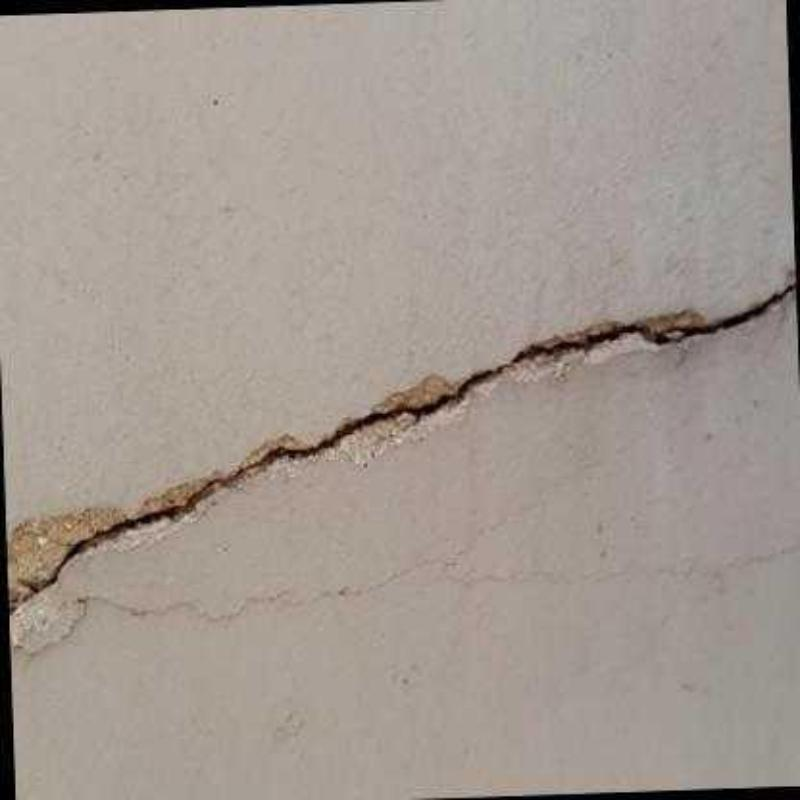pothole: (4, 253, 797, 621)
